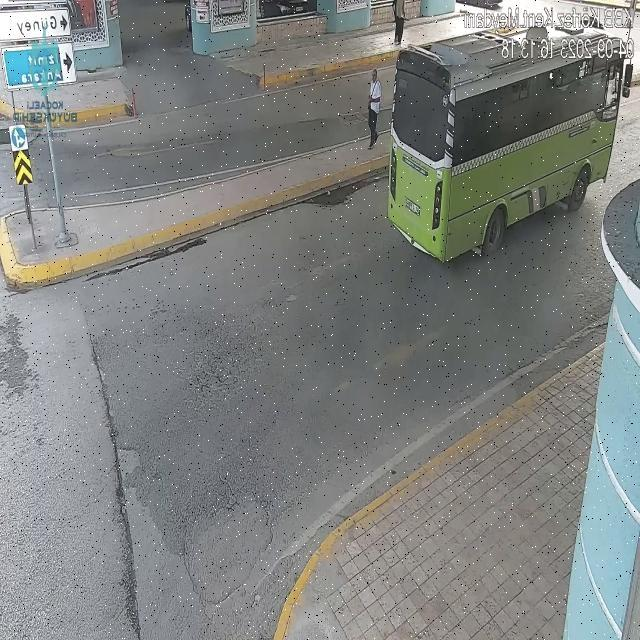Bus: (380, 16, 633, 258)
